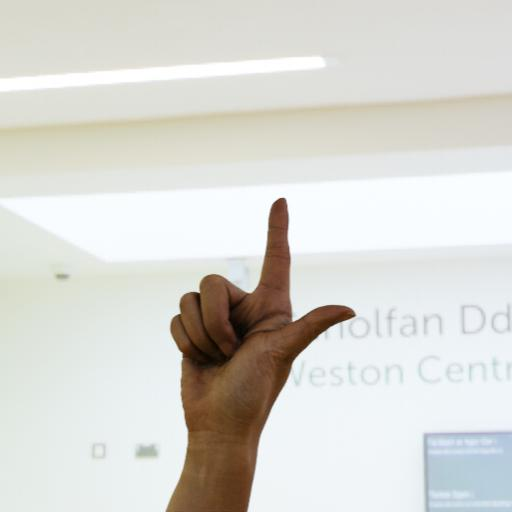L: (139, 177, 471, 512)
